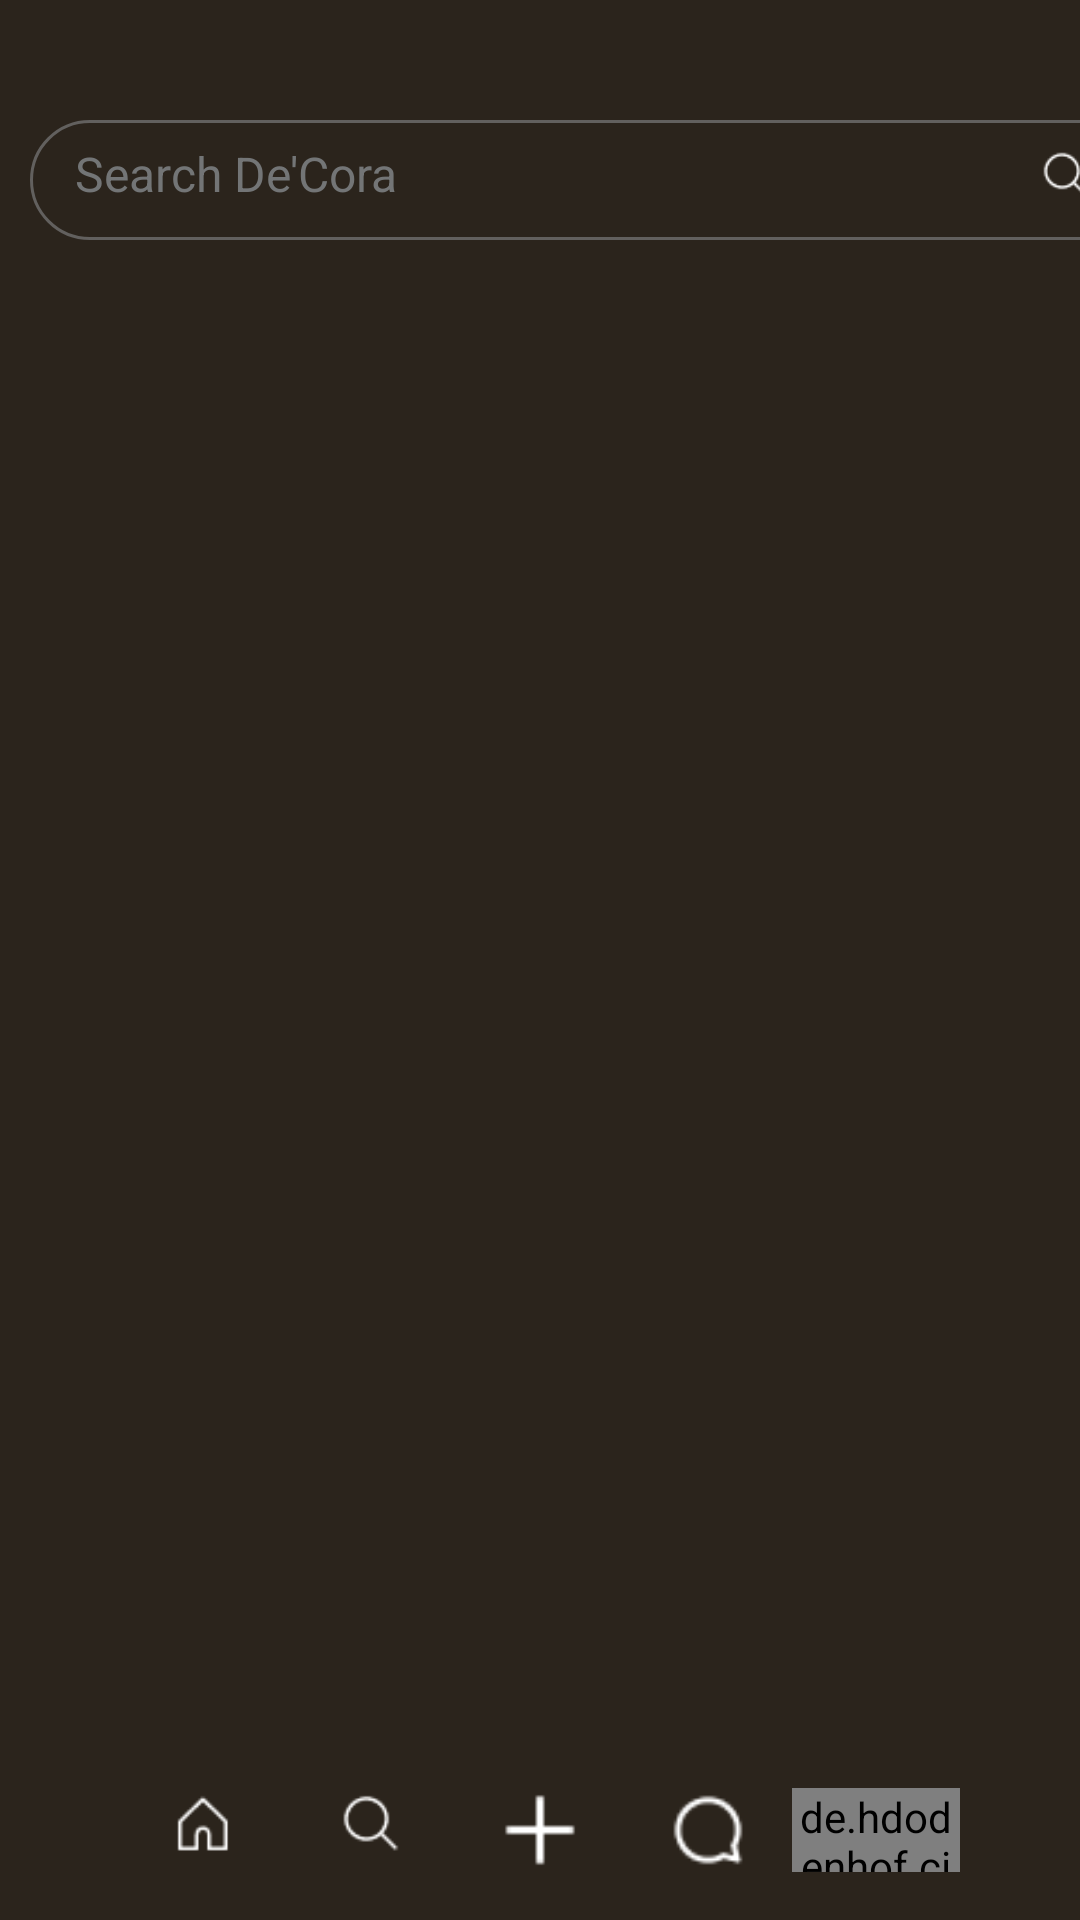

Icons on this 1080px×1920px Android screen, each with the point to tap as [x,y]:
comment: [708,1830]
plus: [540,1830]
